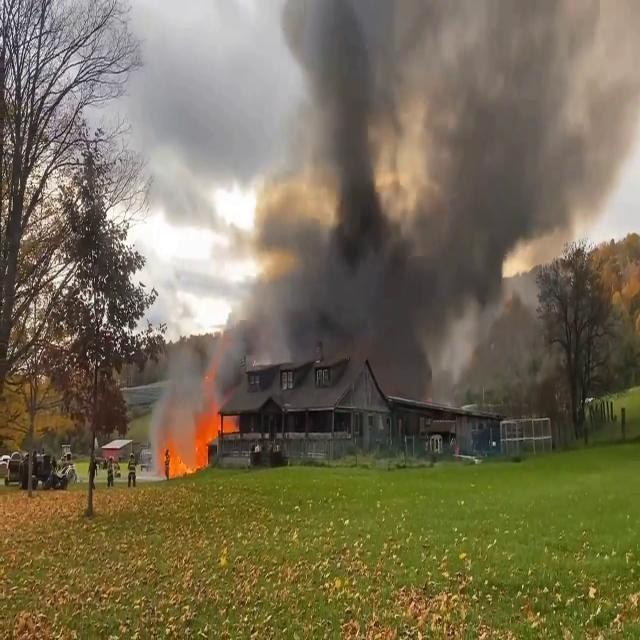Fire: (158, 396, 242, 480)
Smoke: (268, 0, 632, 403)
